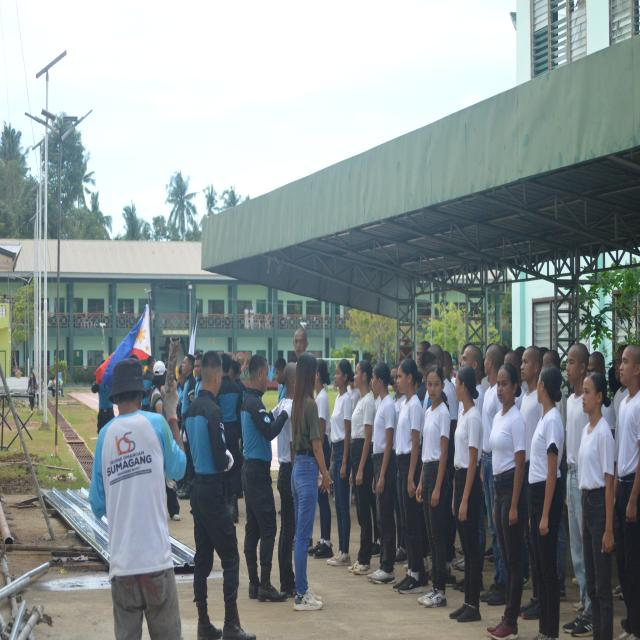person: (90, 359, 185, 639), (185, 352, 255, 639), (242, 355, 288, 601), (487, 364, 527, 639), (292, 353, 330, 610), (579, 372, 614, 639), (529, 366, 563, 638), (450, 365, 483, 622), (563, 344, 592, 633), (417, 365, 450, 607), (615, 345, 639, 638), (394, 359, 424, 593), (368, 362, 397, 584), (481, 344, 505, 605), (349, 360, 375, 575), (327, 360, 353, 566), (273, 363, 295, 597), (217, 354, 242, 523), (313, 488, 333, 559), (149, 362, 165, 417)
